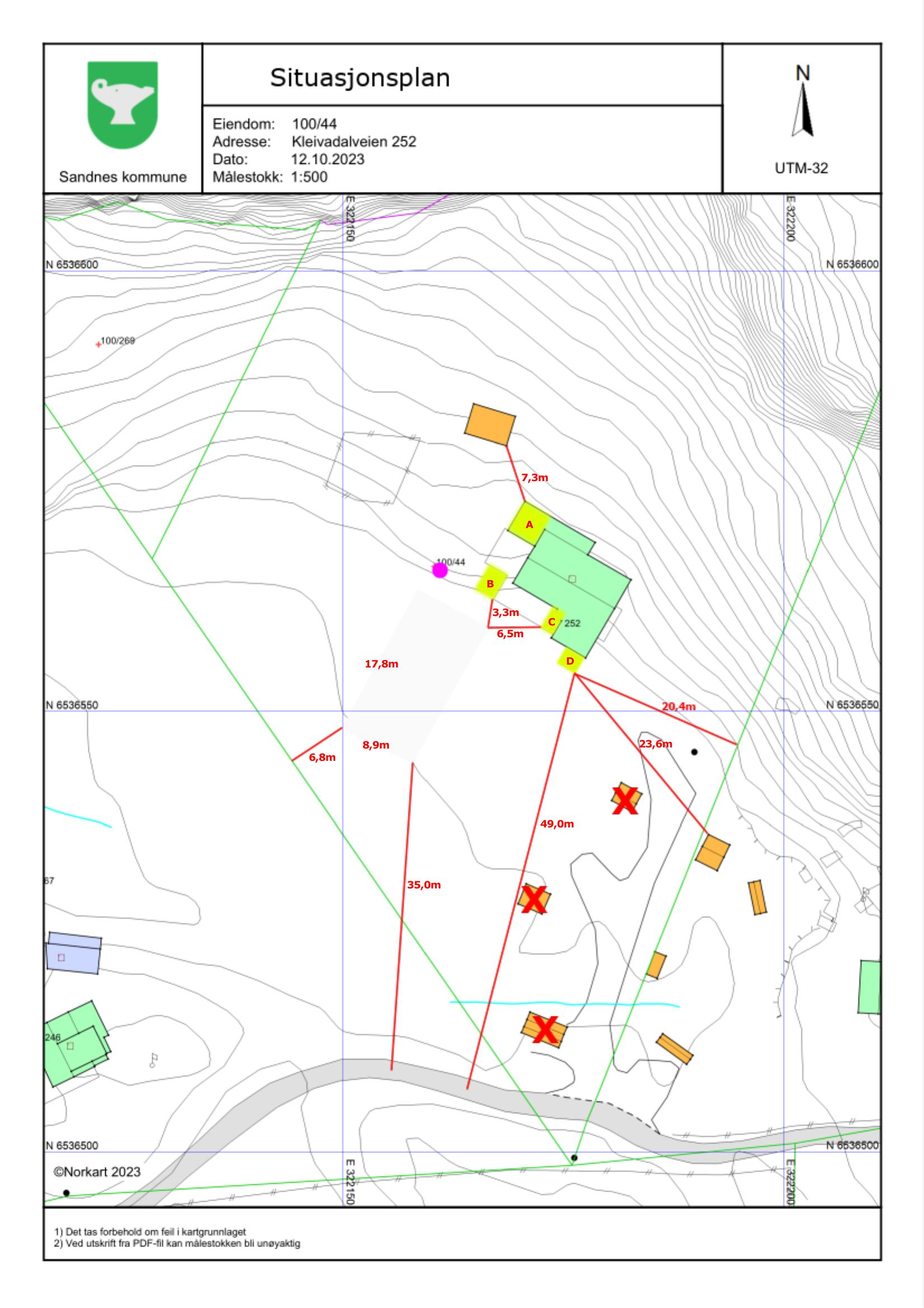situasjonskart: (41, 189, 884, 1209)
